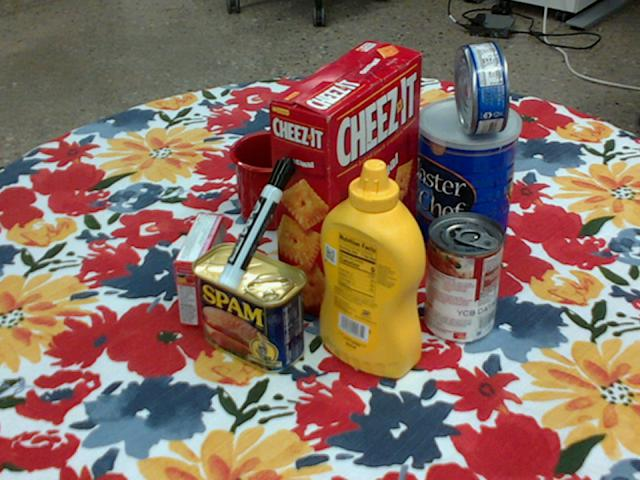cracker_box: (268, 40, 422, 320)
gelatin_box: (174, 212, 226, 326)
large_marker: (218, 155, 295, 289)
master_chef_can: (414, 97, 519, 263)
mug: (230, 130, 336, 231)
mustard_bottle: (320, 159, 426, 379)
potted_meat_can: (193, 243, 307, 373)
sugar_box: (278, 91, 439, 195)
tomato_soup_can: (423, 212, 504, 344)
tuna_fish_can: (453, 41, 509, 134)
